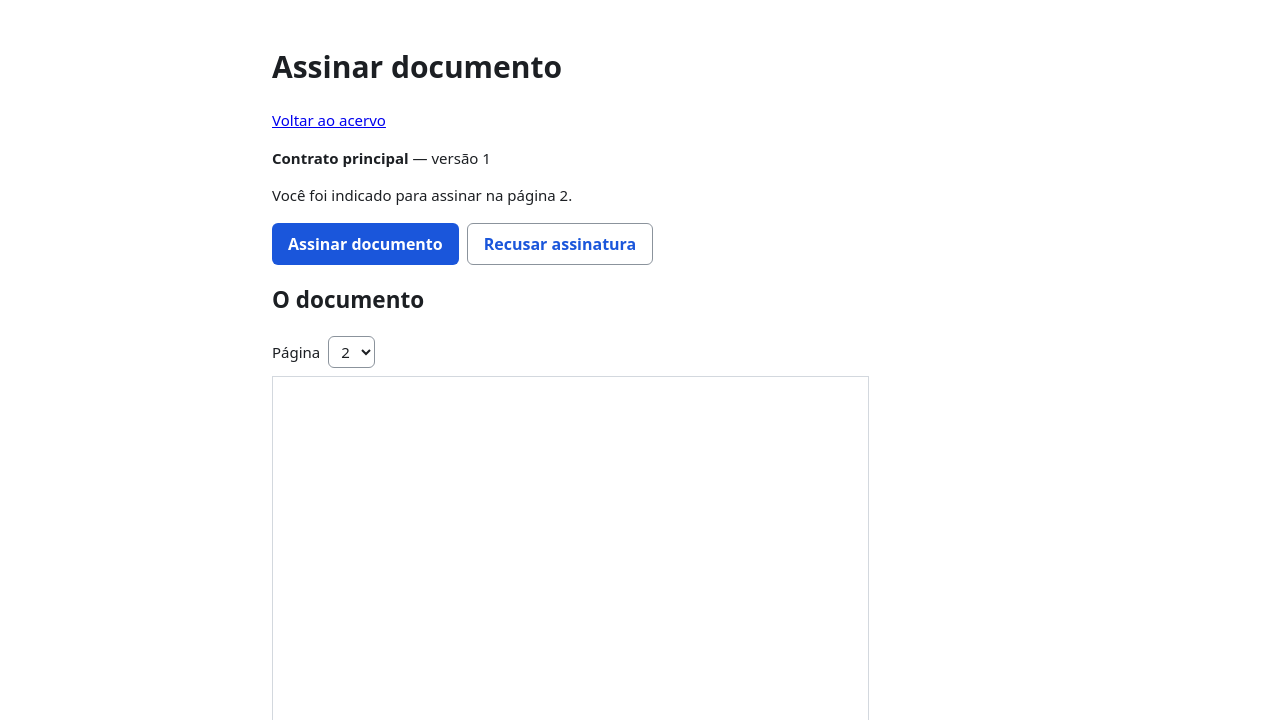
assinar › com a senha correta conclui e a assinatura passa a aparecer com nome e horario
The image size is (1280, 720).
Step 1. Click the button "Assinar documento" → point(365, 244), box left=272, top=223, right=459, bottom=265
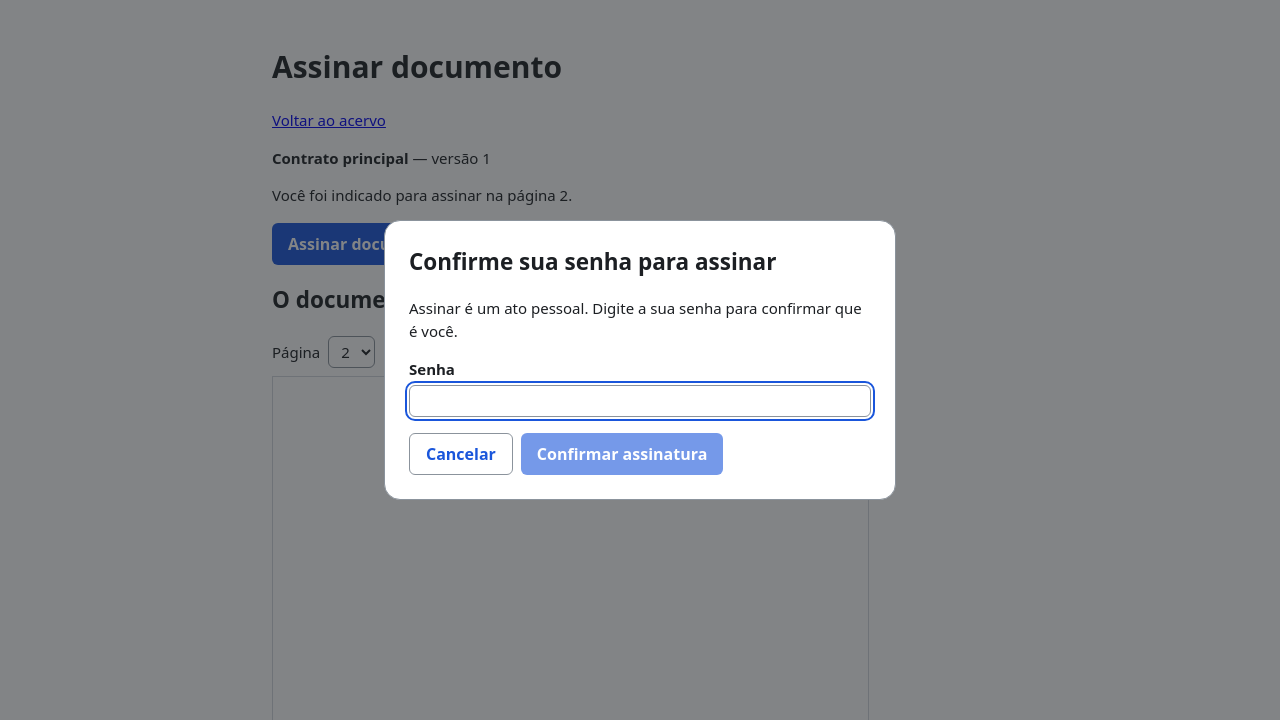
Step 2. Type "s3cret-pass" into the password field labelled "Senha" → point(640, 401), box left=409, top=385, right=871, bottom=417
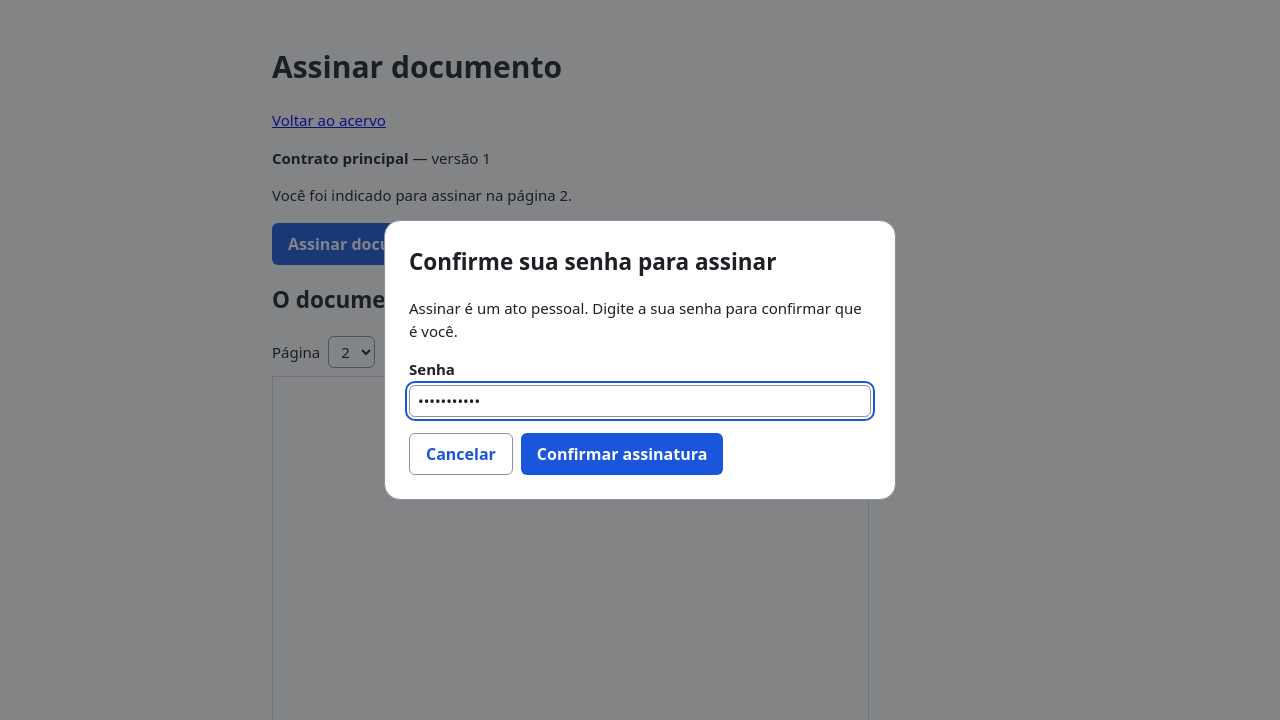
Step 3. Click the button "Confirmar assinatura" → point(622, 454), box left=521, top=433, right=723, bottom=475
(page scrolled)
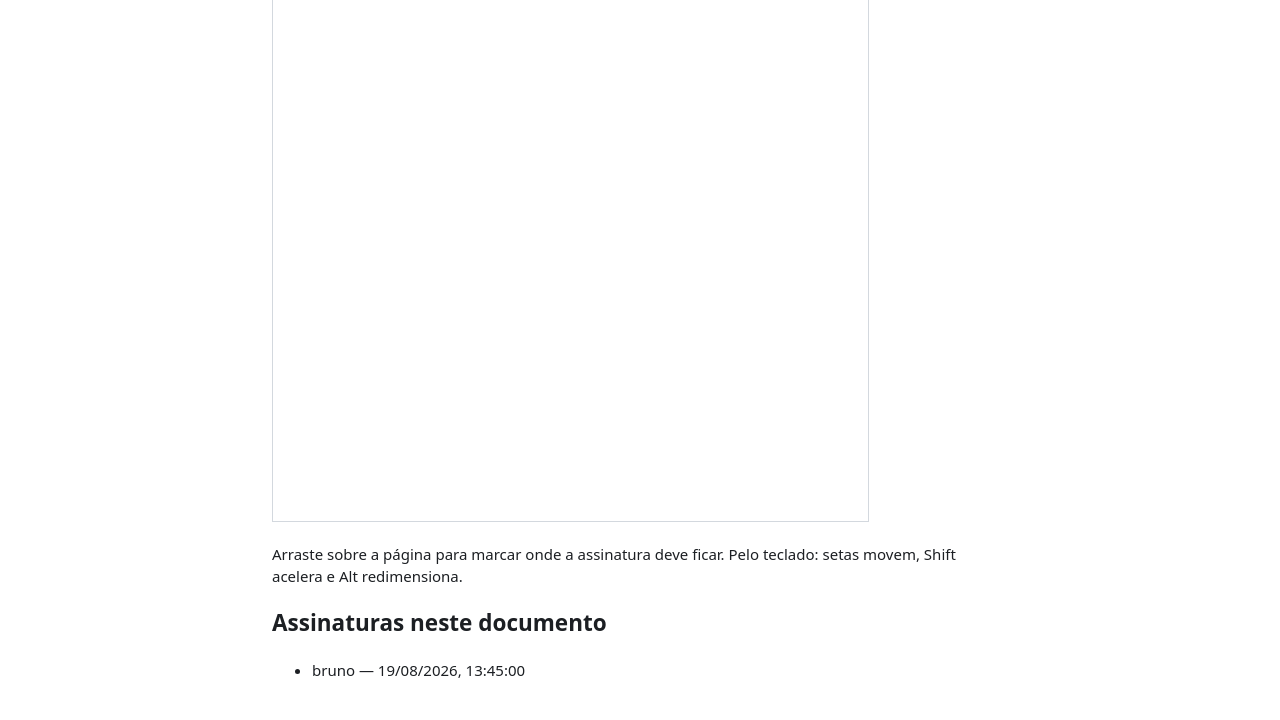
Now the list item with test id "assinatura-registrada" shows "bruno", box left=312, top=660, right=355, bottom=680
Now the list item with test id "assinatura-registrada" reads "bruno — 19/08/2026, 13:45:00", box left=378, top=660, right=525, bottom=680
